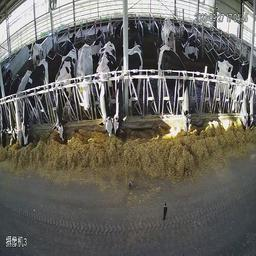cow: (156, 39, 194, 133), (113, 45, 143, 139), (215, 49, 248, 131), (22, 56, 49, 146), (51, 50, 75, 141), (97, 41, 114, 138), (78, 43, 93, 109), (180, 26, 201, 58), (16, 70, 24, 149), (1, 73, 9, 147), (9, 73, 17, 142), (161, 15, 177, 47), (93, 29, 107, 58), (62, 32, 79, 55), (29, 40, 44, 63), (110, 15, 125, 37)
